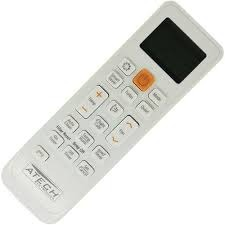remote control: (0, 6, 225, 225)
